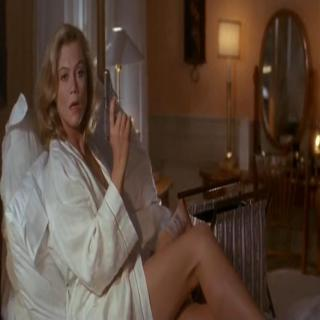gun: (92, 58, 124, 177)
